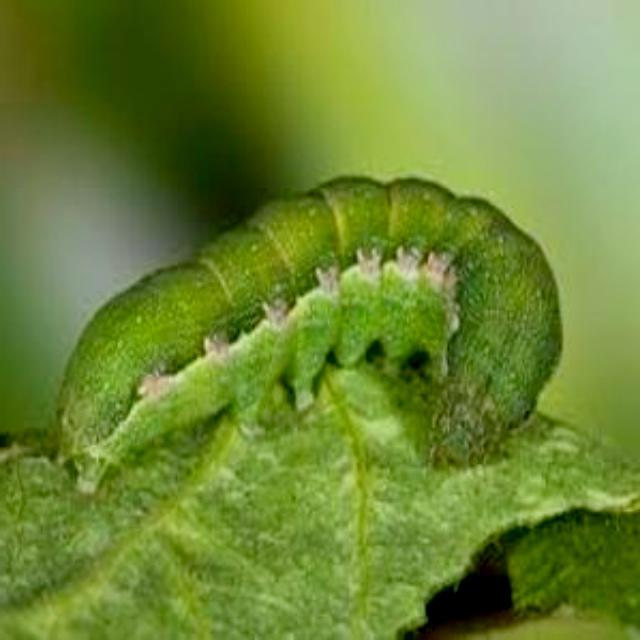Beet armyworm: (22, 145, 600, 530)
